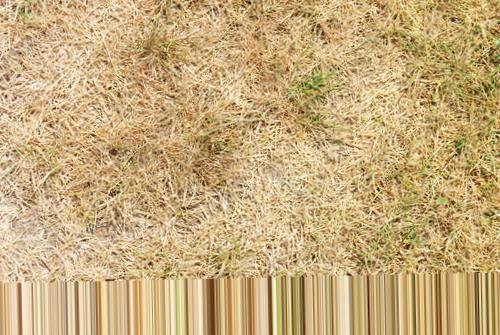patch: (1, 1, 497, 281)
